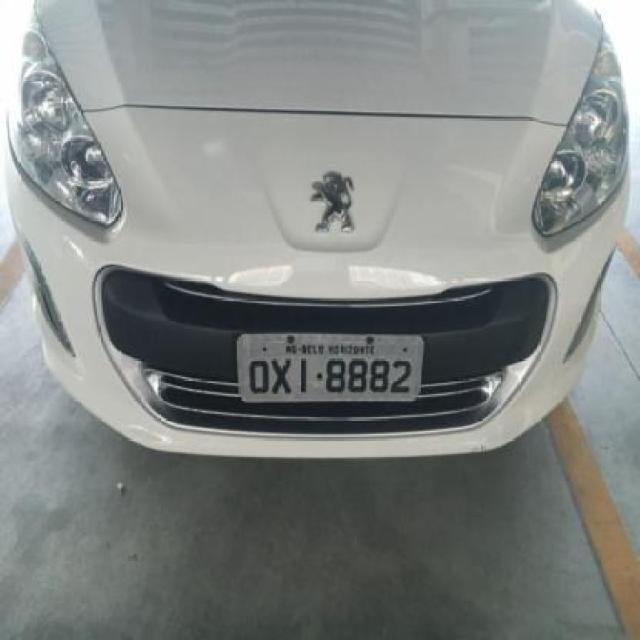old_plate: (229, 330, 427, 410)
